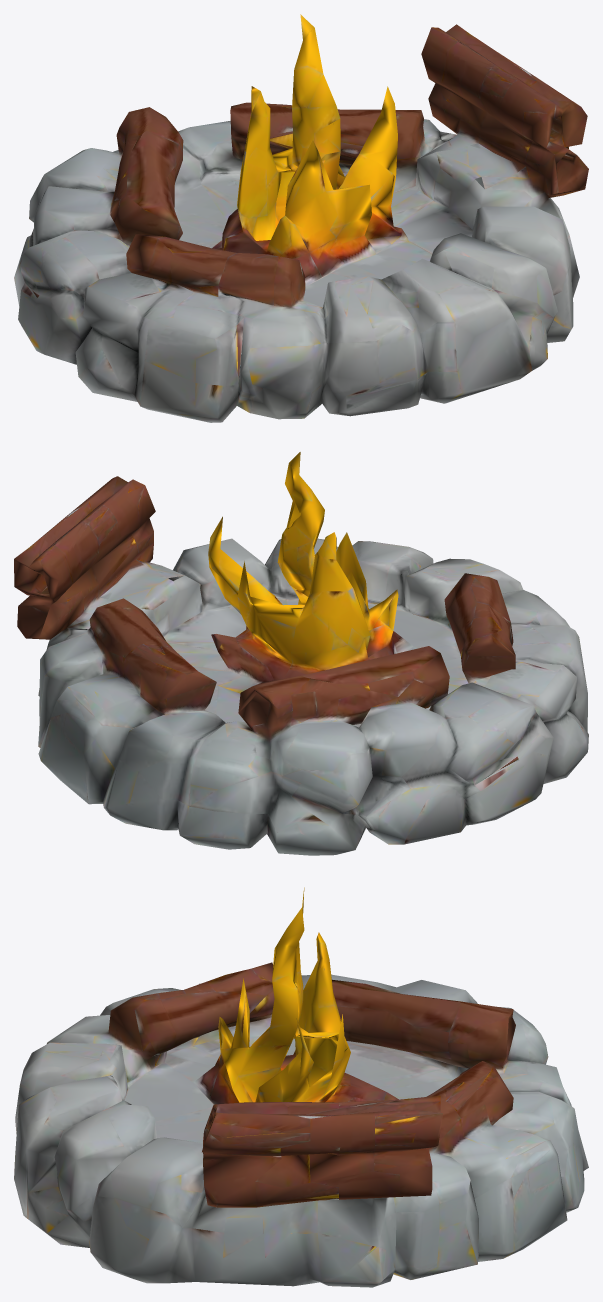
The model's file is campfire.glb.
3 renders of one model, top to bottom at view 1: azimuth 30°, elevation 25°; view 2: azimuth 150°, elevation 25°; view 3: azimuth 270°, elevation 25°, orthographic. The views are drawn at different scales.
Parts seen in each view (by area): view 1: 0; view 2: 0; view 3: 0.
Boxes of the visible parts, x1,y1,x2,y2 form: 0: (14,14,588,422); 0: (14,452,588,855); 0: (14,887,588,1287).
Bounding box in the file's own units: 1.9 × 1.11 × 1.88.
1 material, 1 textured.
